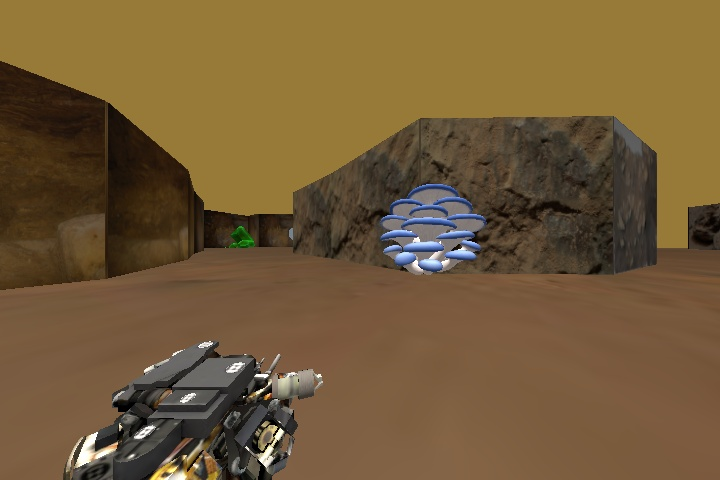gem: (229, 224, 255, 248)
mushroom: (380, 183, 485, 274)
